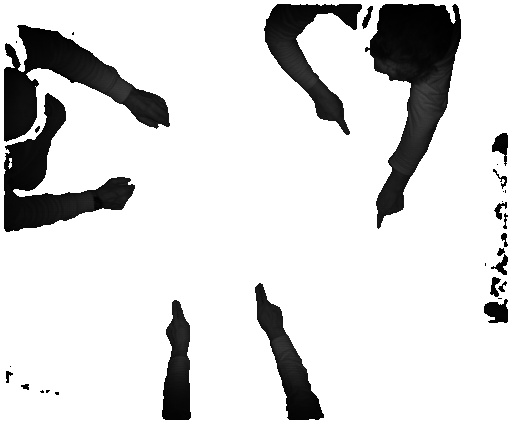fist: (98, 176, 135, 215)
hand: (248, 280, 287, 334), (129, 90, 175, 135), (160, 296, 191, 355), (313, 91, 351, 135), (376, 182, 409, 231)
